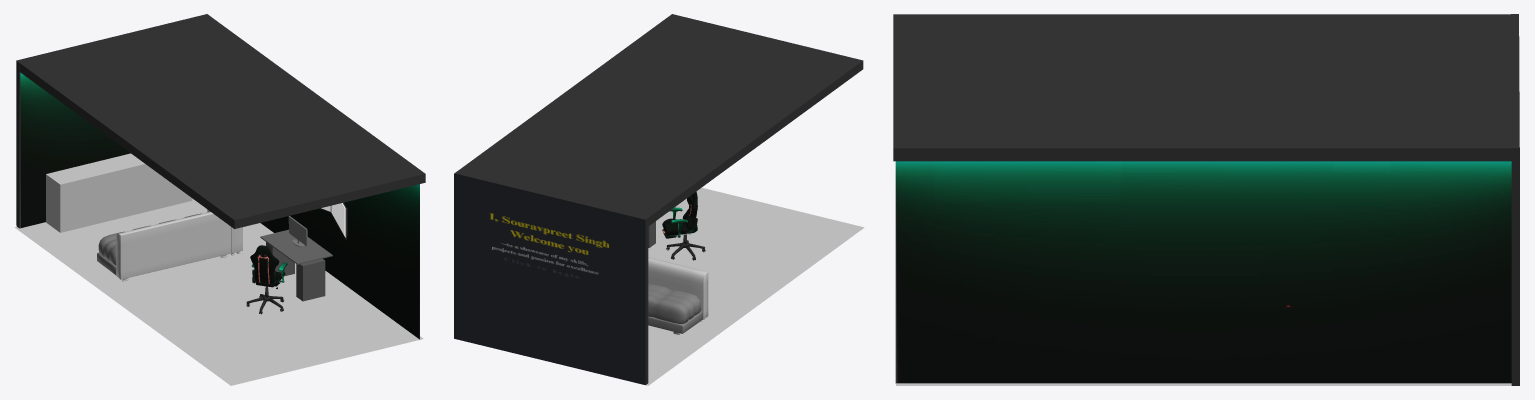
Rendered from MainSetup.glb.
The picture shows the model from 3 angles, left to right: view 1: azimuth 30°, elevation 25°; view 2: azimuth 150°, elevation 25°; view 3: azimuth 270°, elevation 25°; orthographic projection. The views are drawn at different scales.
Visible parts, largest first — view 1: Cube.002, Plane, Plane.004, Plane.005, Cube, Circle.009, Cube.013, Cube.001, Cube.016, Object_5, Circle.010, Plane.016 (+3 smaller); view 2: Cube.002, Plane.006, Plane, Circle.009, Circle.010, Cube.013, Object_5, Circle.007; view 3: Plane.004, Cube.002, Cube.013, Plane.
Boxes of the visible parts, x1=… form: Cube.002: x1=19, y1=16, x2=425, y2=228; Plane: x1=14, y1=198, x2=423, y2=385; Plane.004: x1=261, y1=184, x2=419, y2=339; Plane.005: x1=20, y1=72, x2=130, y2=228; Cube: x1=46, y1=153, x2=192, y2=232; Circle.009: x1=116, y1=212, x2=230, y2=281; Cube.013: x1=16, y1=14, x2=209, y2=228; Cube.001: x1=260, y1=229, x2=332, y2=264; Cube.016: x1=296, y1=258, x2=325, y2=301; Object_5: x1=250, y1=245, x2=287, y2=289; Circle.010: x1=98, y1=213, x2=201, y2=265; Plane.016: x1=331, y1=202, x2=347, y2=239; Cube.002: x1=457, y1=14, x2=863, y2=226; Plane.006: x1=454, y1=174, x2=644, y2=384; Plane: x1=645, y1=187, x2=864, y2=385; Circle.009: x1=648, y1=257, x2=708, y2=321; Circle.010: x1=648, y1=283, x2=701, y2=323; Cube.013: x1=454, y1=171, x2=648, y2=384; Object_5: x1=662, y1=191, x2=697, y2=238; Circle.007: x1=648, y1=311, x2=702, y2=334; Plane.004: x1=895, y1=161, x2=1511, y2=383; Cube.002: x1=893, y1=14, x2=1512, y2=161; Cube.013: x1=1511, y1=14, x2=1519, y2=385; Plane: x1=896, y1=383, x2=1511, y2=385.
Size of the model in its own units: 6.02 by 4.94 by 11.76.
Materials: 27 (8 with a texture image).
